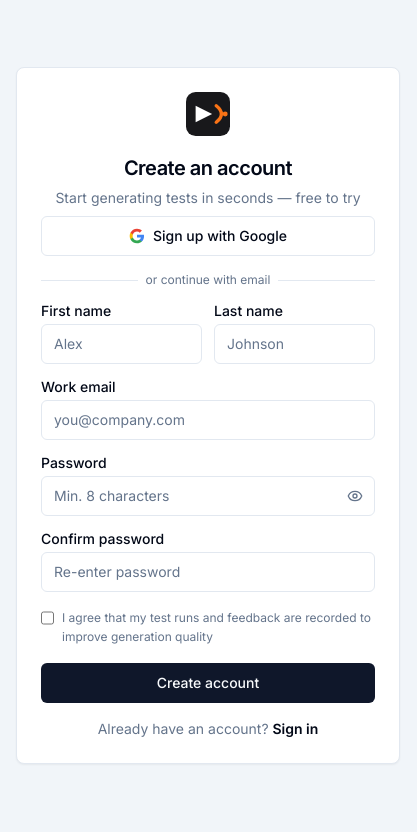
Test: SignupPage — validate() blocks each bad field › reports every bad field at once, not just the first
What coordinates should you click on to do the following:
click the button "Create account"
I would click on:
 (208, 682)
Its box is [41,662,375,702].
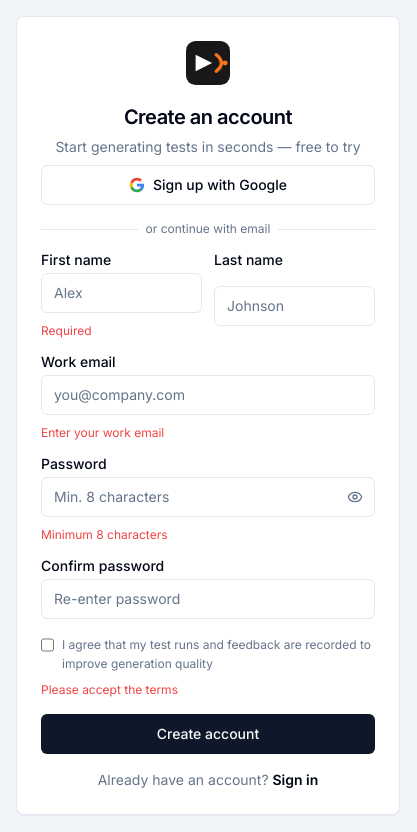
Check: the text "Required" is shown, box [41,322,92,338]
Check: the text "Enter your work email" is shown, box [41,424,164,440]
Check: the text "Minimum 8 characters" is shown, box [41,526,168,542]
